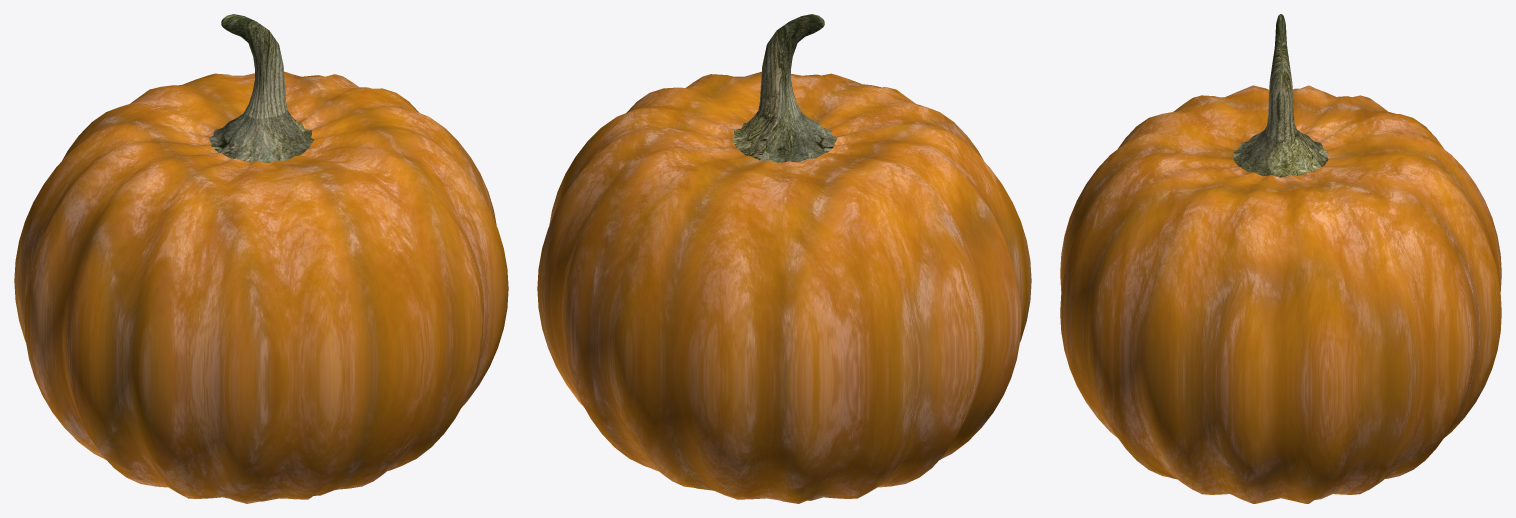
Rendered from PumpkinOBJ.obj.
3 renders of one model, left to right at view 1: azimuth 30°, elevation 25°; view 2: azimuth 150°, elevation 25°; view 3: azimuth 270°, elevation 25°, orthographic. The views are drawn at different scales.
Parts seen in each view (by area): view 1: Sphere001; view 2: Sphere001; view 3: Sphere001.
Boxes of the visible parts, left/top/right/bottom form: Sphere001: left=14, top=14, right=508, bottom=503; Sphere001: left=537, top=14, right=1031, bottom=503; Sphere001: left=1060, top=14, right=1501, bottom=503.
Size of the model in its own units: 163 by 162 by 154.
